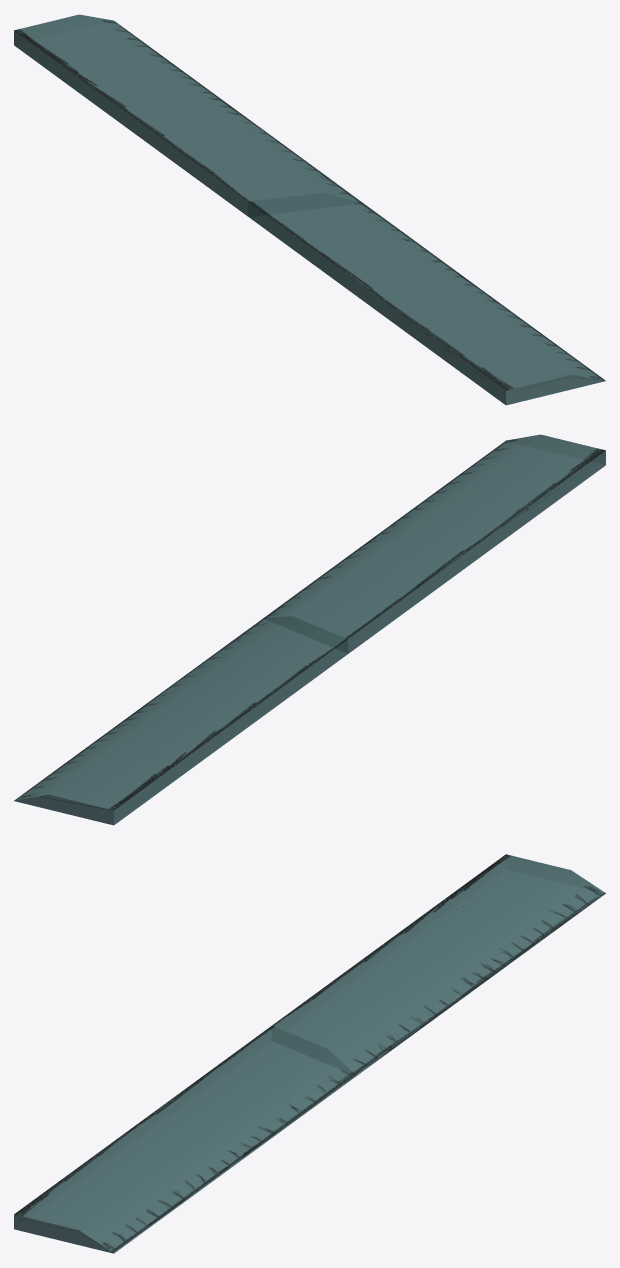
The model's file is Règle_Grande.fbx.
3 views of the same model, one above another, from view 1: azimuth 30°, elevation 25°; view 2: azimuth 150°, elevation 25°; view 3: azimuth 330°, elevation 25° (orthographic).
Visible parts, largest first — view 1: pCube5, pCube6; view 2: pCube5, pCube6; view 3: pCube5, pCube6.
Boxes of the visible parts, x1=… form: pCube5: x1=248, y1=193, x2=605, y2=405; pCube6: x1=14, y1=14, x2=362, y2=216; pCube5: x1=264, y1=434, x2=605, y2=653; pCube6: x1=14, y1=616, x2=348, y2=825; pCube5: x1=14, y1=1025, x2=356, y2=1253; pCube6: x1=272, y1=854, x2=605, y2=1075.
Bounding box in the file's own units: 3.5 × 0.5 × 29.83.
Materials: 1 (1 with a texture image).
